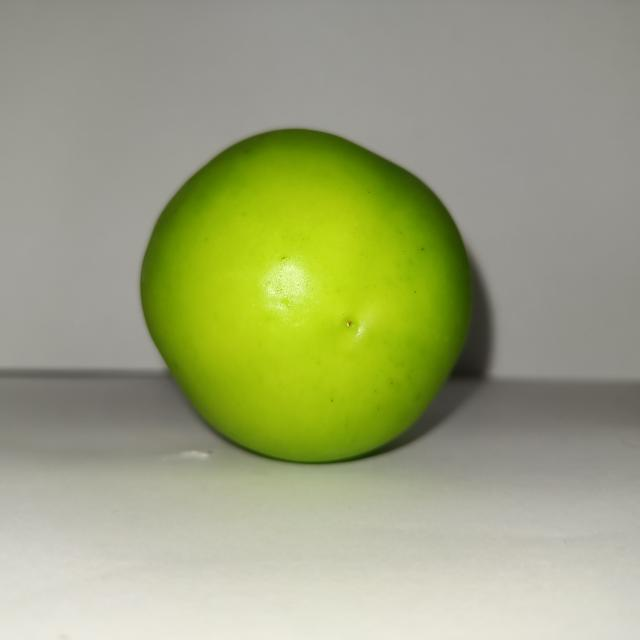Red: (138, 125, 473, 464)
